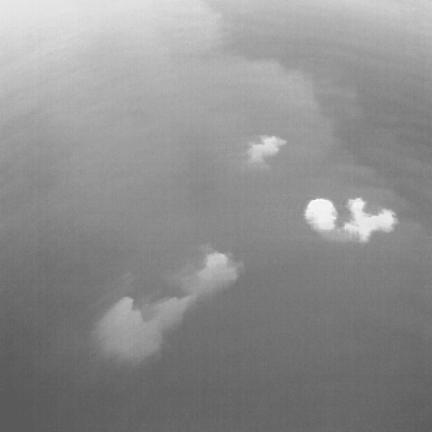flukeprints: (94, 294, 196, 361), (338, 197, 396, 241), (198, 251, 237, 282), (247, 136, 286, 165), (304, 198, 337, 230)
